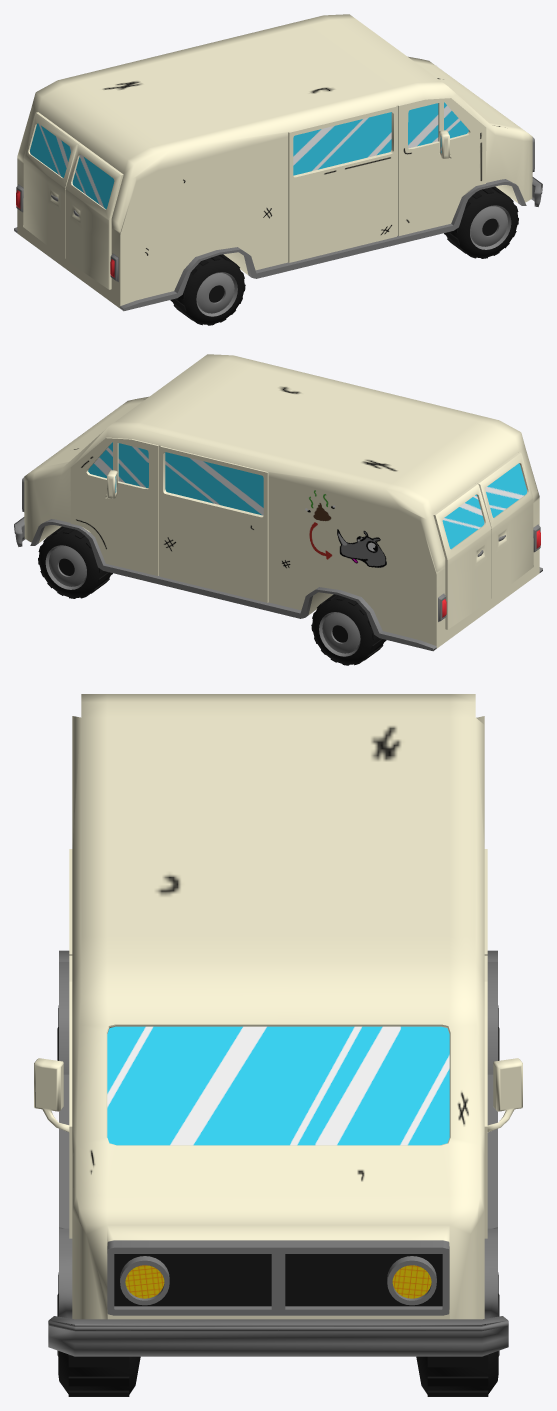
File: WhiteVan.glb
The picture shows the model from 3 angles, top to bottom: view 1: azimuth 30°, elevation 25°; view 2: azimuth 150°, elevation 25°; view 3: azimuth 270°, elevation 25°; orthographic projection. The views are drawn at different scales.
Visible parts, largest first — view 1: Van, Door1, Doors2; view 2: Van, Doors2, Door1; view 3: Van.
Boxes of the visible parts, x1,y1,x2,y2 form: Van: [14, 14, 542, 325]; Door1: [65, 143, 123, 289]; Doors2: [23, 112, 80, 258]; Van: [14, 354, 542, 665]; Doors2: [433, 483, 491, 629]; Door1: [476, 452, 533, 598]; Van: [34, 694, 522, 1396].
Size of the model in its own units: 9.63 by 3.93 by 4.75.
1 material, 1 textured.
